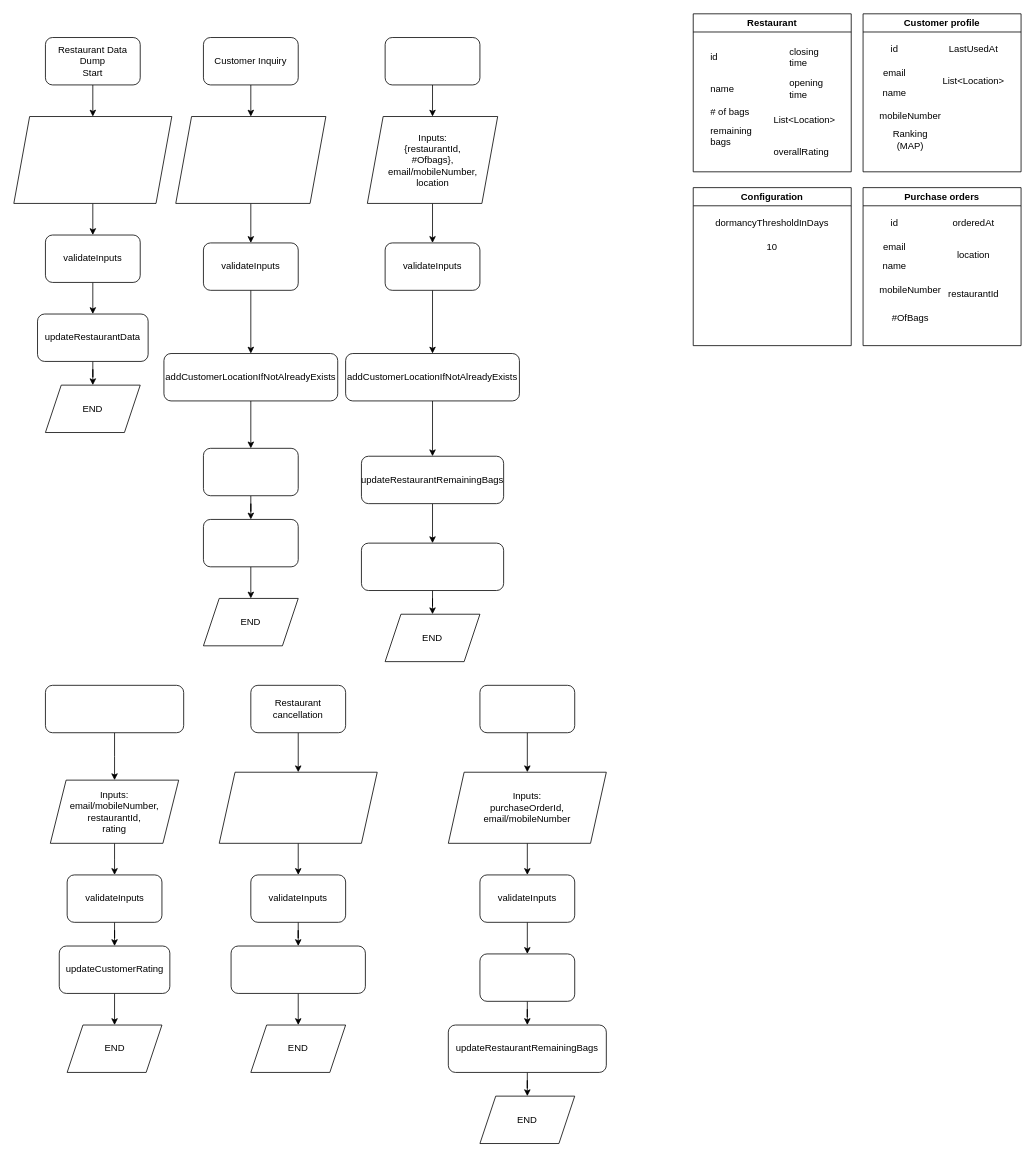
This 1035x1157 diagram has some shape labels left out. The centre of each missing label's shape, as x and y in pixels:
"Customer cancellation" belongs at pixel 527 709.
"Customer Purchase" belongs at pixel 432 61.
"Customer Rating update (used to update personalized rating for 1 Restaurant)" belongs at pixel 114 709.
"Inputs: email/mobileNumber, location" belongs at pixel 250 159.
"Inputs: id, openingTime, closingTime, #Ofbags, pricePerBag, actualNumOfBags" belongs at pixel 92 159.
"Inputs: restaurantId, #OfBags" belongs at pixel 297 807.
"Return list of restaurants" belongs at pixel 250 543.
"Select Restaurants based on rating strategy (individual -> selectionStrategy)" belongs at pixel 250 472.
"sendCancellationToCustomers" belongs at pixel 297 969.
"storeCustomerPurchaseOrder" belongs at pixel 432 566.
"updatePurchaseOrder" belongs at pixel 527 977.
